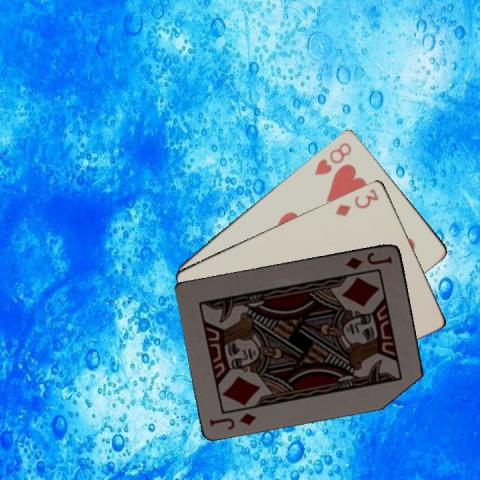3d: (333, 186, 380, 218)
8h: (311, 138, 353, 176)
Jd: (206, 409, 258, 431), (343, 248, 394, 270)
